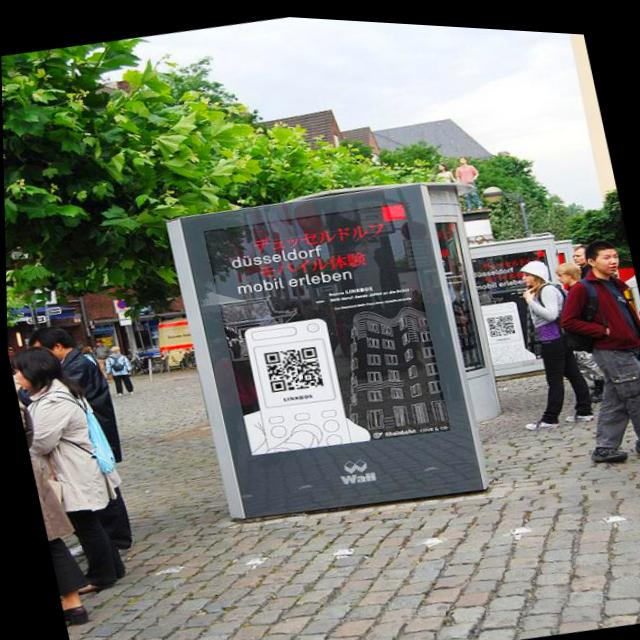qrcode: (263, 341, 322, 392), (486, 309, 514, 332)
